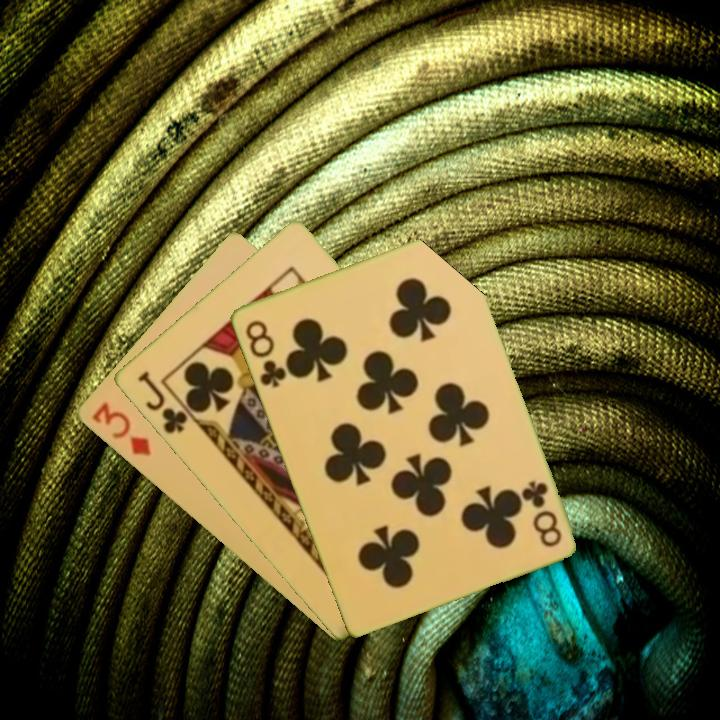3d: (87, 398, 154, 459)
8c: (241, 316, 289, 391), (517, 477, 564, 550)
Jc: (133, 367, 198, 437)
